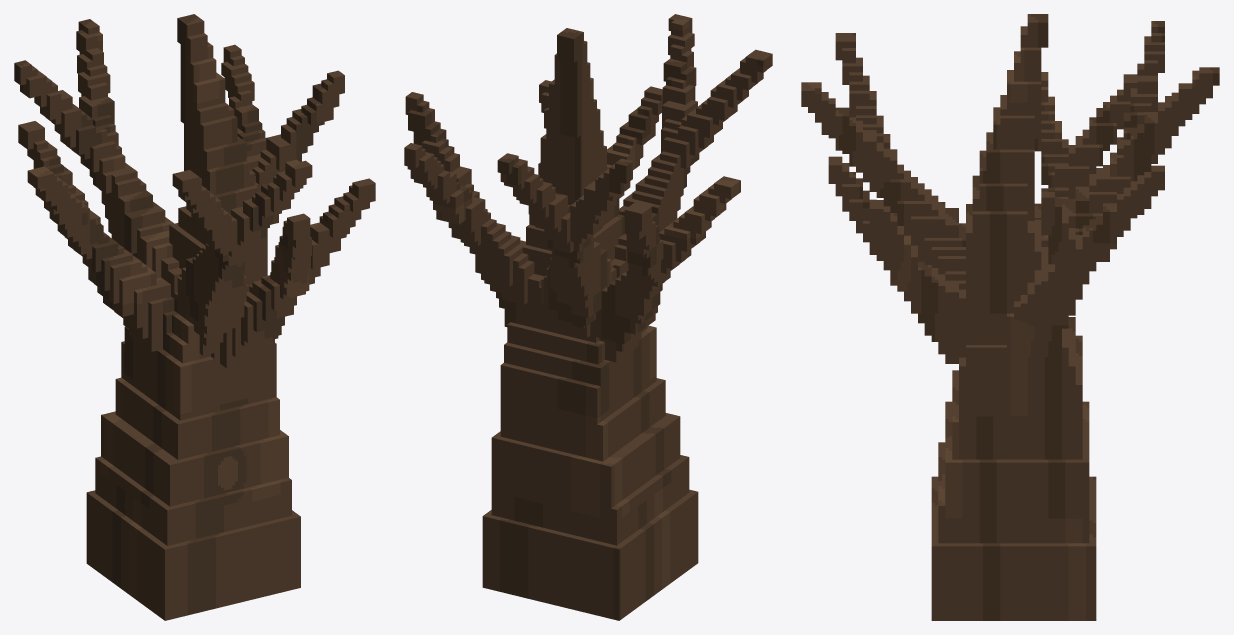
File: apple_mature_winter_3.glb
3 renders of one model, left to right at view 1: azimuth 30°, elevation 25°; view 2: azimuth 150°, elevation 25°; view 3: azimuth 270°, elevation 25°, orthographic. The views are drawn at different scales.
Visible parts, largest first — view 1: VoxelVisual; view 2: VoxelVisual; view 3: VoxelVisual.
Part boxes in pixels (x1,y1,x2,y2): VoxelVisual: [14, 14, 375, 620]; VoxelVisual: [404, 14, 772, 620]; VoxelVisual: [801, 14, 1219, 620].
Size of what is drawn, in the model's own units: 7 by 11.5 by 7.62.
